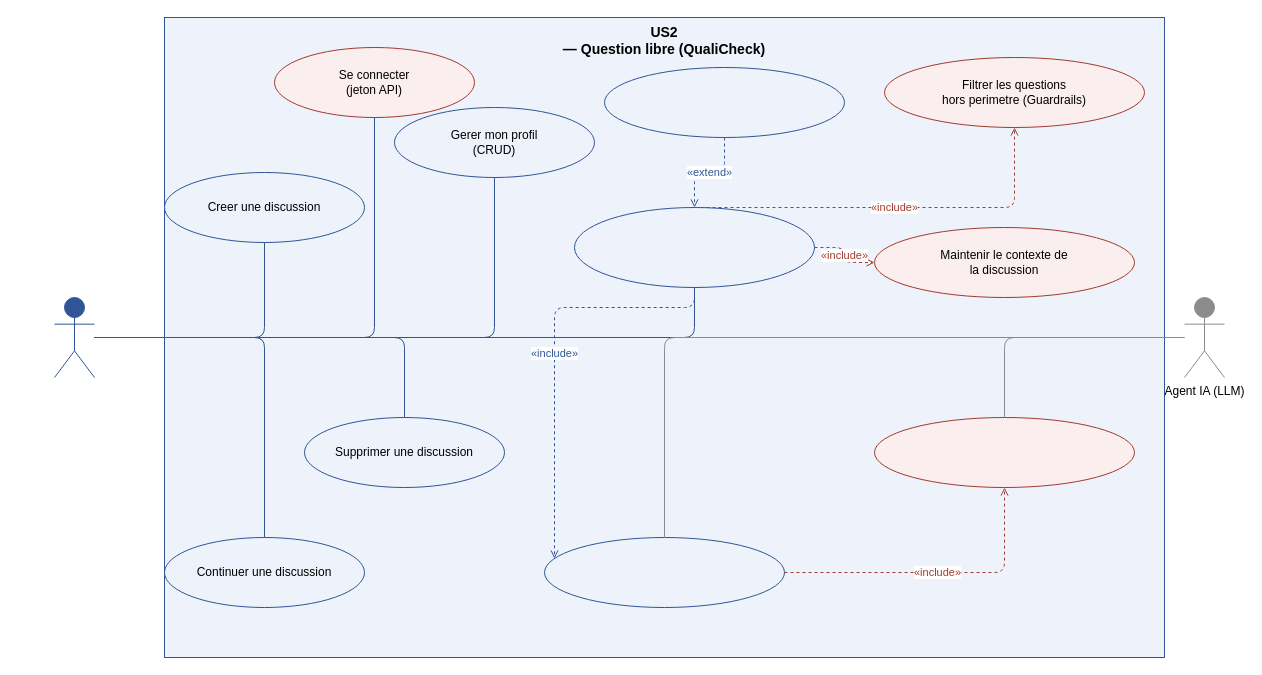
This 1262x675 diagram has some shape labels left out. The shapes that lost their labels are listed below. From the top down, each one's centre as x and y in pixels, then its label:
At (724,102): "Associer un contexte de page (URL/capture, optionnel)".
At (694,247): "Poser une question".
At (74,337): "Professionnel du web".
At (1004,452): "Rechercher les regles pertinentes (RAG semantique pur)".
At (664,572): "Recevoir une reponse argumentee".
